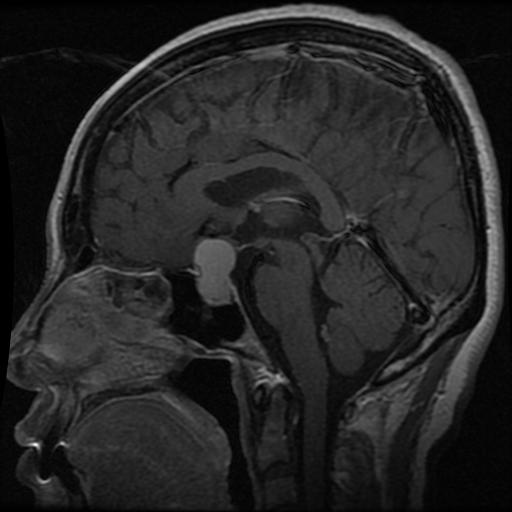Pituirity_tumour: (192, 239, 233, 304)
